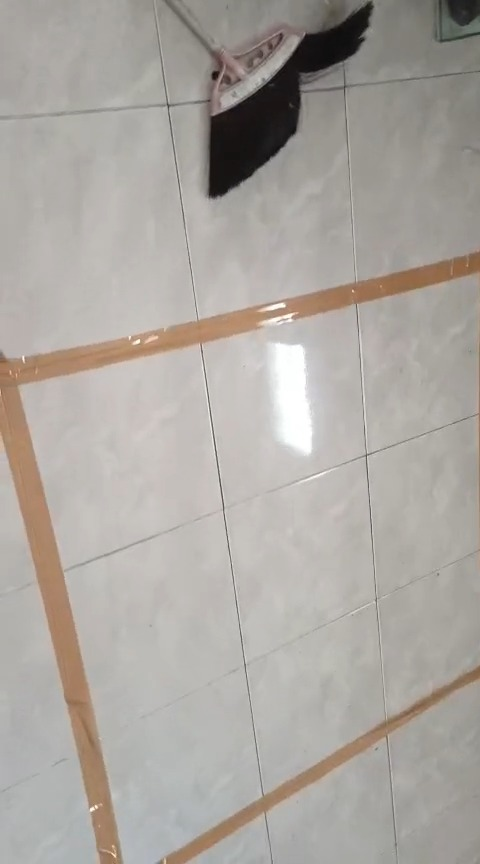floor marking: (0, 251, 479, 863), (160, 665, 479, 863)
